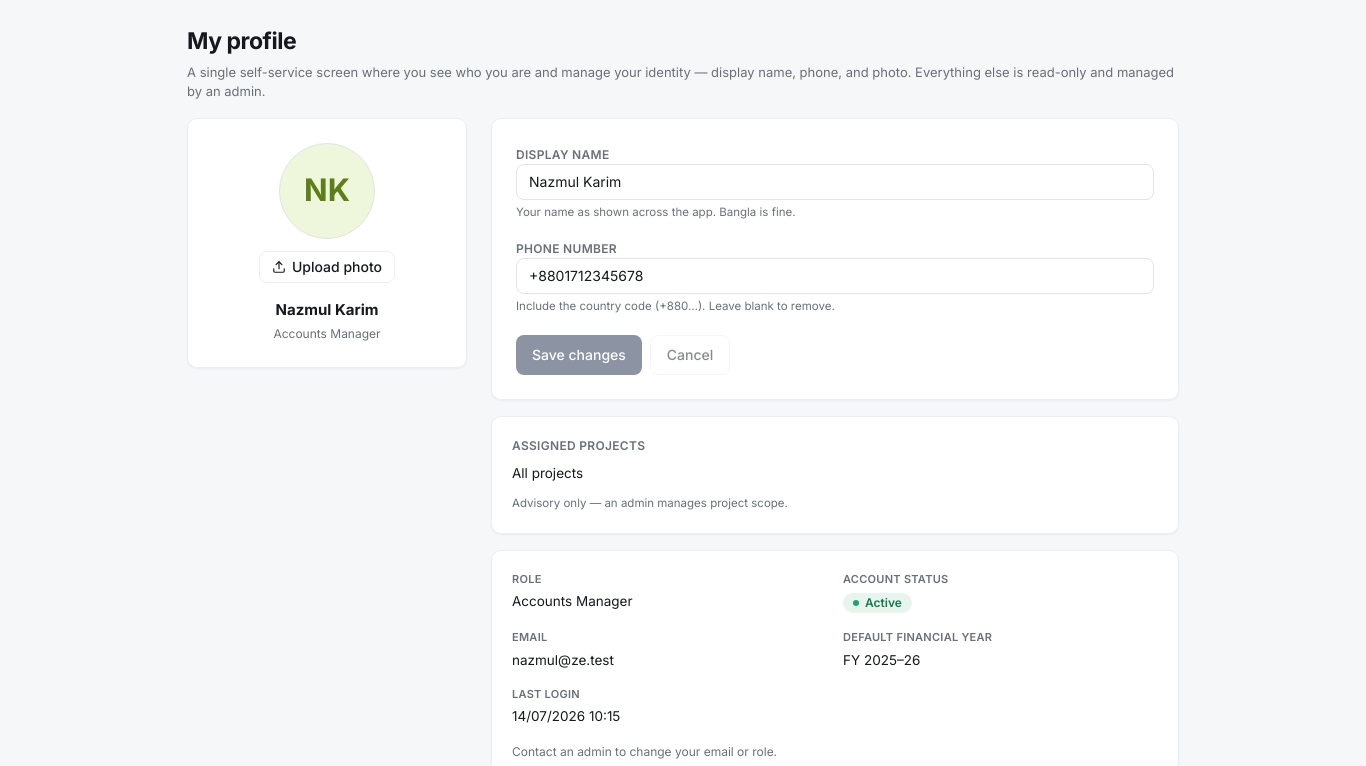
Test case: AccountProfileScreen — name/phone edit (FR-AUD-032/-034/-037) › non-E.164 phone shows the exact §8 message
Type "0171-234-5678" into the field with test id "profile-phone-input" at [835, 276], box [516, 258, 1154, 294]
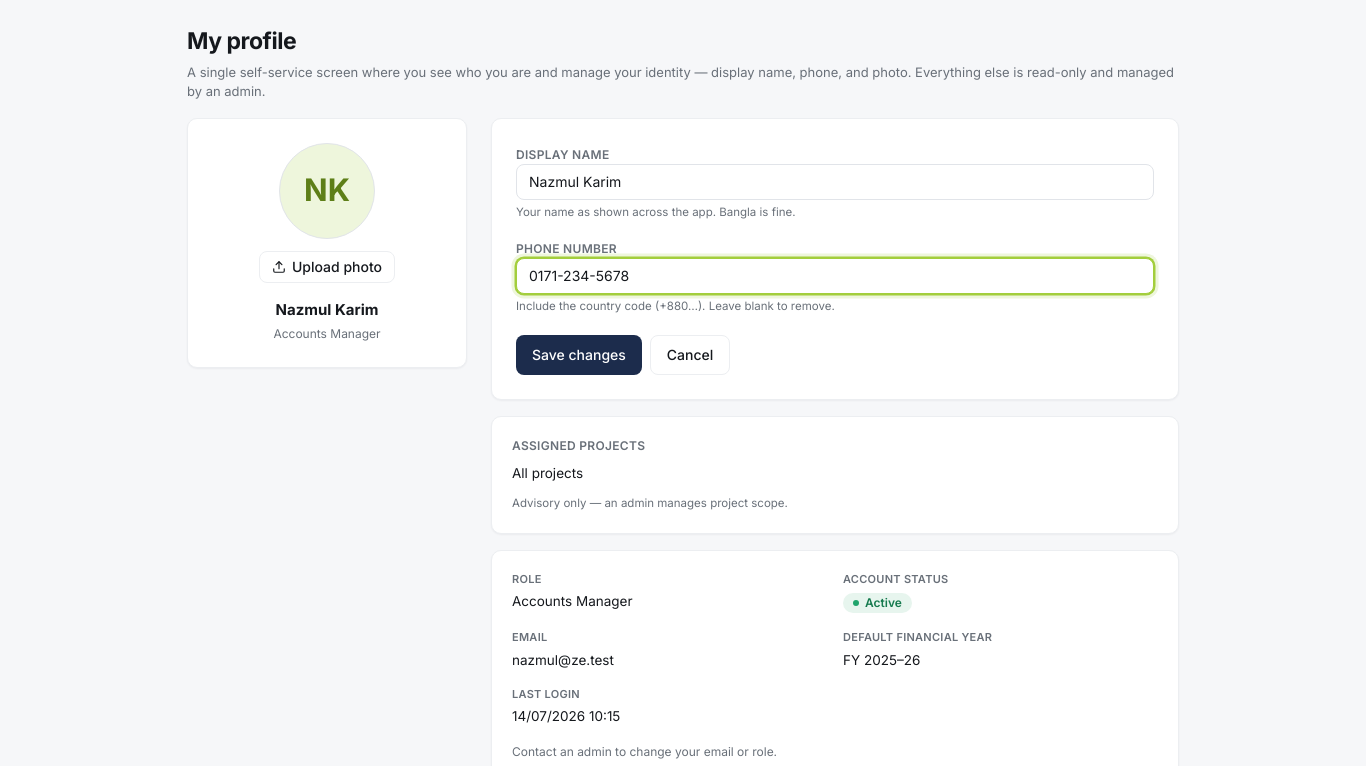
Click the button with test id "profile-save" at [579, 355], box [516, 335, 642, 375]
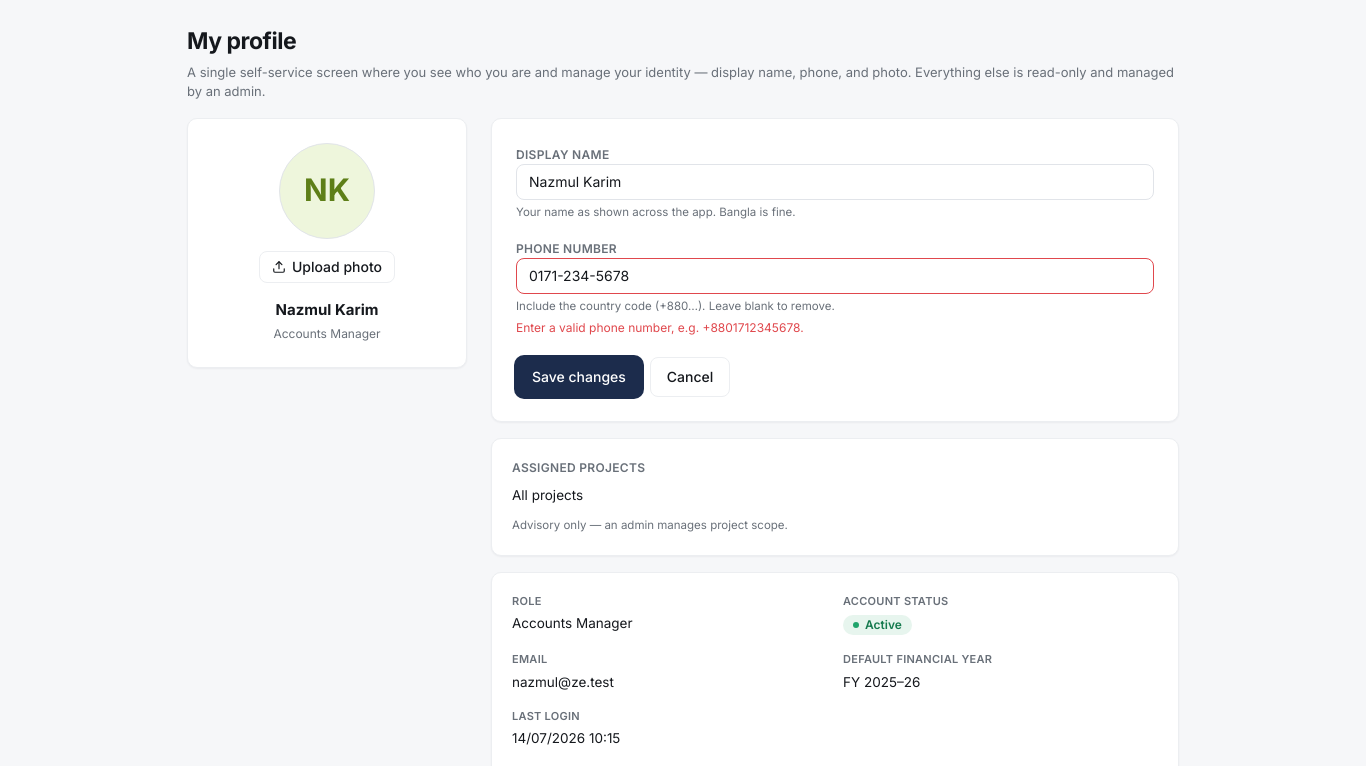
Expected: the message with test id "profile-phone-error" reads "Enter a valid phone number, e.g. +8801712345678.", [516, 320, 804, 335]
